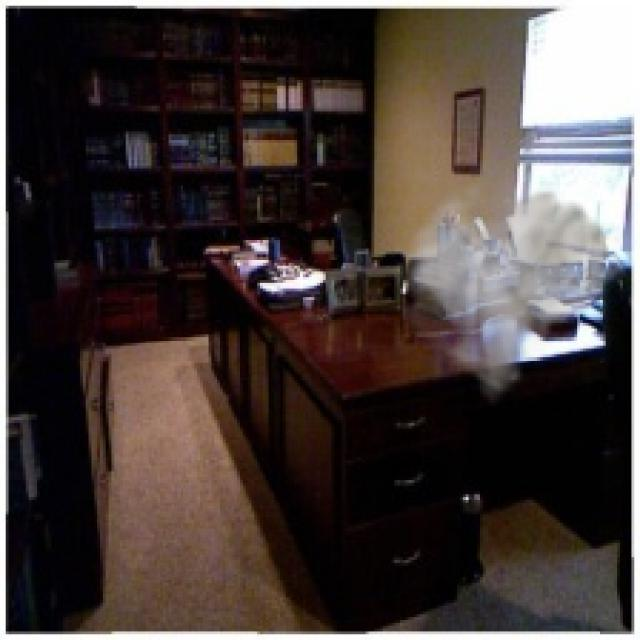Smoke: (394, 168, 629, 408)
